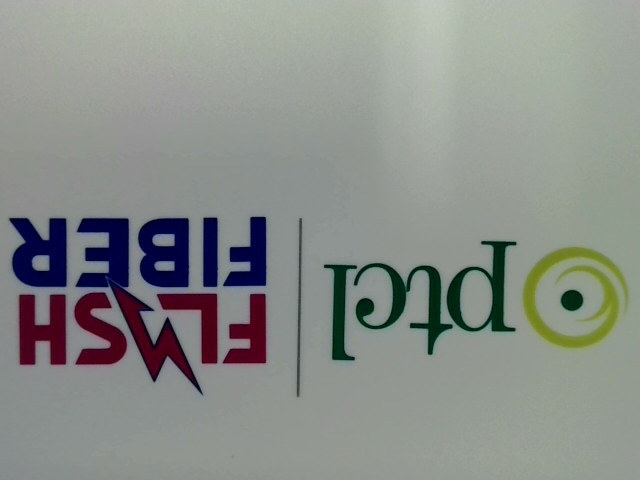BF_PTCL: (313, 227, 632, 373)
